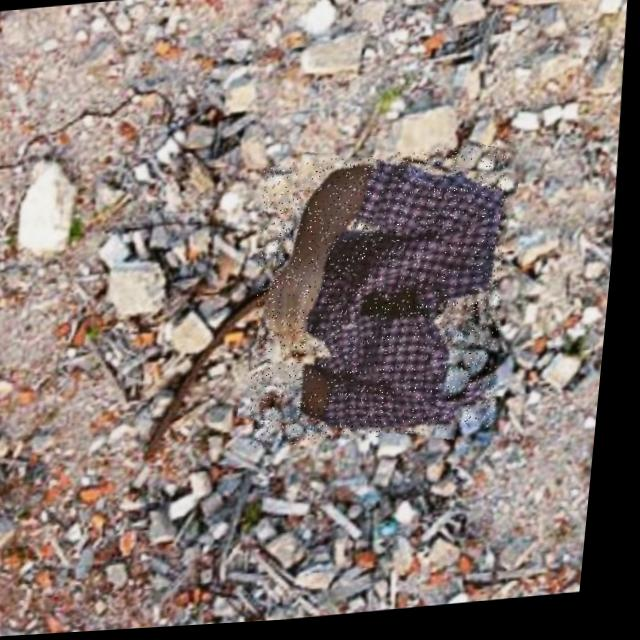Person in Rubble: (245, 148, 523, 453)
